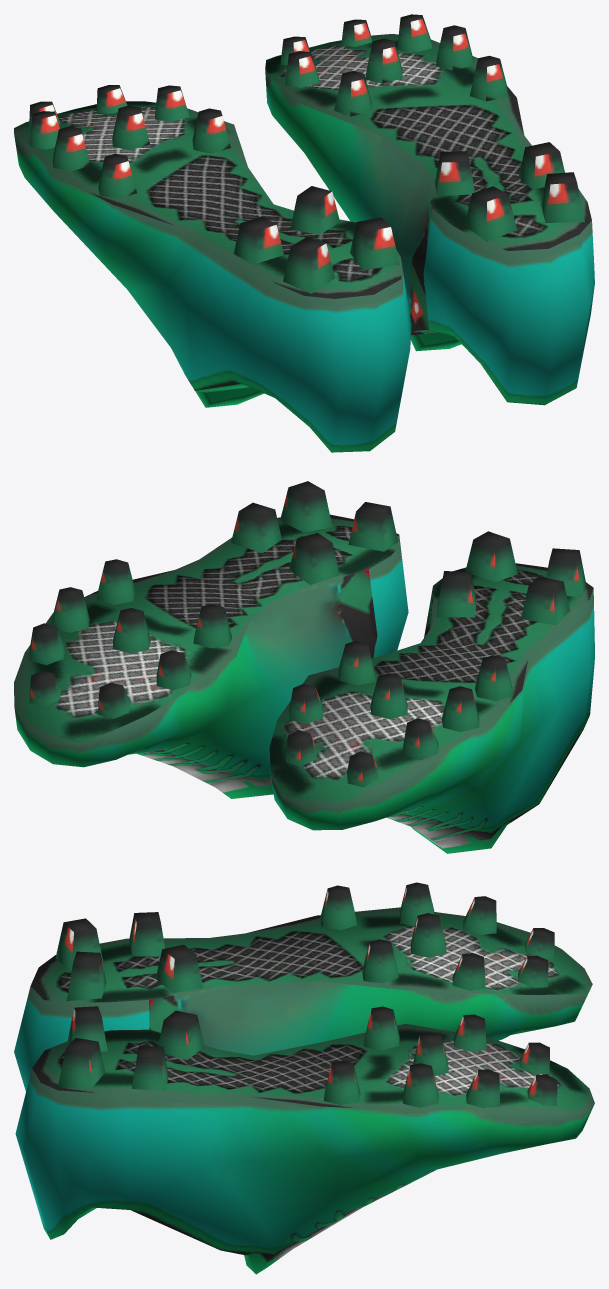
Rendered from shoe_03.FBX.
The picture shows the model from 3 angles, top to bottom: view 1: azimuth 30°, elevation 25°; view 2: azimuth 150°, elevation 25°; view 3: azimuth 270°, elevation 25°; orthographic projection.
Visible parts, largest first — view 1: shoe_03; view 2: shoe_03; view 3: shoe_03.
Part boxes in pixels (x1,y1,x2,y2): shoe_03: (14, 14, 594, 452); shoe_03: (14, 481, 594, 853); shoe_03: (14, 882, 594, 1274).
Size of the model in its own units: 25.71 by 13.86 by 30.15.
